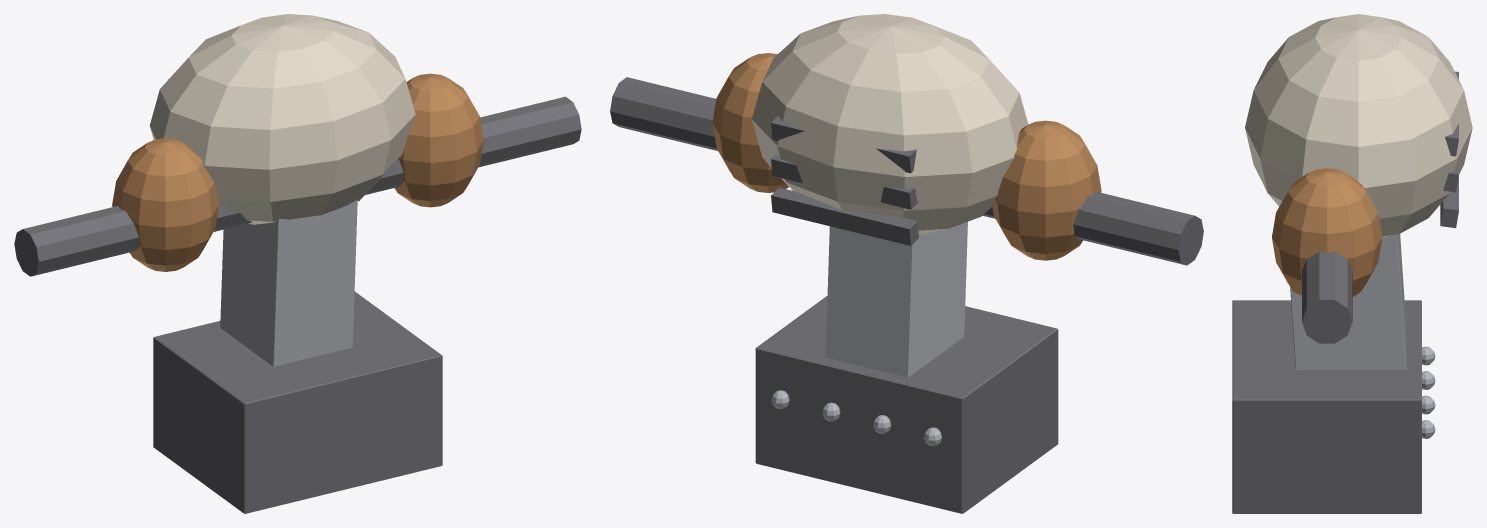
File: pit-mono.glb
3 views of the same model, side by side, from view 1: azimuth 30°, elevation 25°; view 2: azimuth 150°, elevation 25°; view 3: azimuth 270°, elevation 25° (orthographic). The views are drawn at different scales.
Visible parts, largest first — view 1: pelvis, chest, keel, yoke, pod_r, pod_l; view 2: pelvis, chest, keel, yoke, pod_r, pod_l, vent0, vent1, vent2; view 3: chest, pelvis, pod_l, keel, yoke, vent0, vent2.
Boxes of the visible parts, box(x1,y1,x2,y2) form: pelvis: box(153, 291, 442, 513); chest: box(149, 14, 415, 224); keel: box(220, 199, 357, 366); yoke: box(14, 96, 581, 276); pod_r: box(112, 138, 218, 271); pod_l: box(394, 73, 483, 207); pelvis: box(755, 296, 1058, 513); chest: box(752, 14, 1028, 234); keel: box(825, 222, 967, 377); yoke: box(610, 77, 1203, 265); pod_r: box(992, 120, 1101, 260); pod_l: box(712, 53, 788, 192); vent0: box(771, 187, 918, 245); vent1: box(771, 154, 917, 209); vent2: box(771, 116, 916, 173); chest: box(1245, 14, 1472, 237); pelvis: box(1232, 300, 1421, 513); pod_l: box(1272, 168, 1382, 297); keel: box(1290, 234, 1406, 369); yoke: box(1302, 252, 1352, 343); vent0: box(1440, 176, 1458, 228); vent2: box(1445, 71, 1458, 156).
Bounding box in the file's own units: 0.82 × 0.606 × 0.304.
